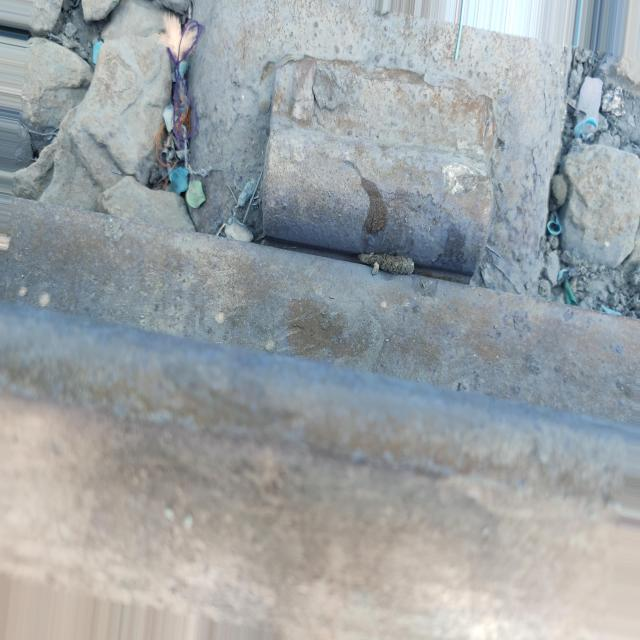Missing Fastener: (263, 55, 492, 273)
